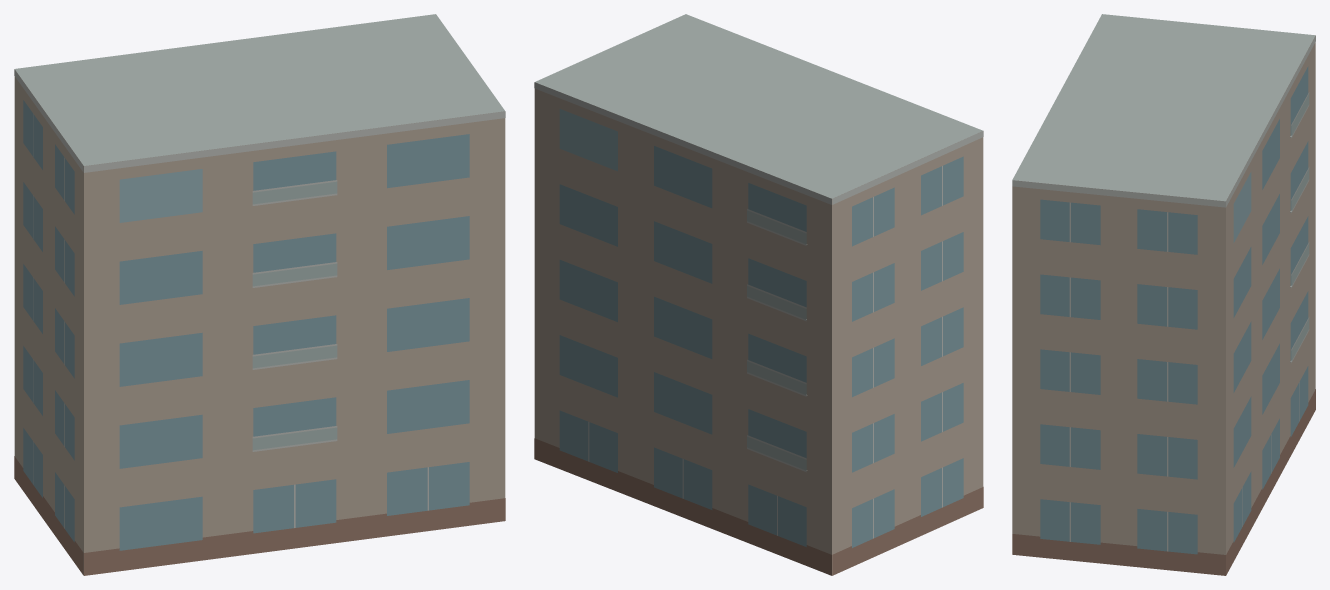
The model's file is survey-upis-32894244.glb.
The picture shows the model from 3 angles, left to right: view 1: azimuth 30°, elevation 25°; view 2: azimuth 150°, elevation 25°; view 3: azimuth 270°, elevation 25°; orthographic projection. The views are drawn at different scales.
Parts seen in each view (by area): view 1: survey-upis-32894244.tmp; view 2: survey-upis-32894244.tmp; view 3: survey-upis-32894244.tmp.
Boxes of the visible parts, box(x1,y1,x2,y2) form: survey-upis-32894244.tmp: box(14, 14, 505, 575); survey-upis-32894244.tmp: box(534, 14, 983, 575); survey-upis-32894244.tmp: box(1012, 14, 1315, 575).
Bounding box in the file's own units: 15.62 × 14.55 × 10.7.
